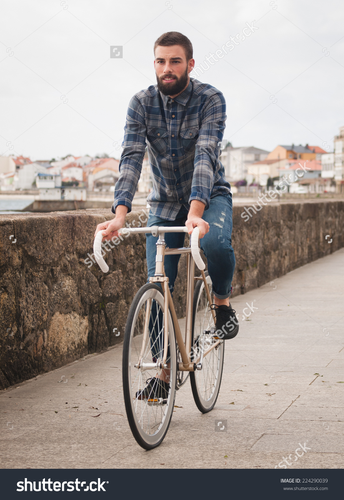bikerider: (84, 15, 250, 452)
